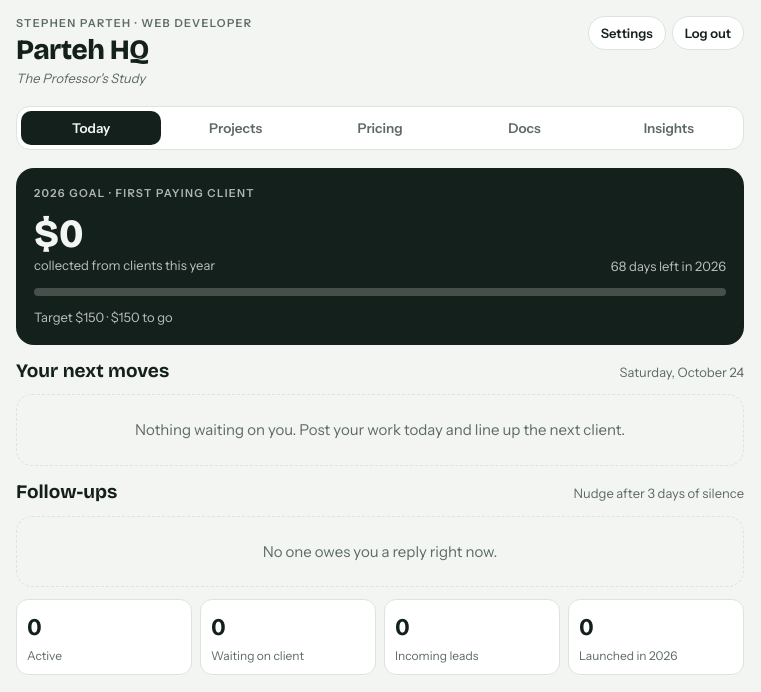
Test case: login › log out clears the token
The width and height of the screenshot is (761, 692).
Click the button "Log out" at {"x": 708, "y": 33}, box [672, 16, 744, 50]
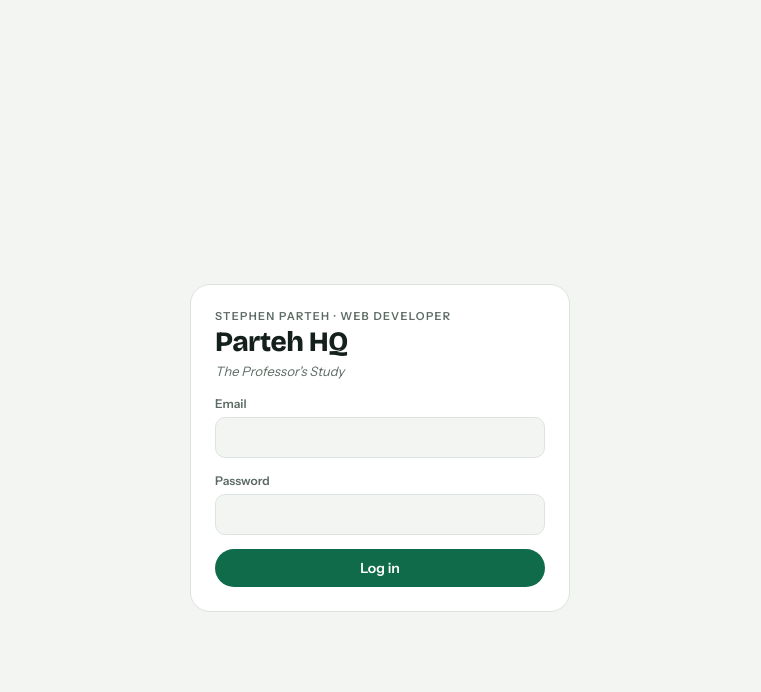
Check: the button "Log in" is shown, box [215, 550, 545, 588]
